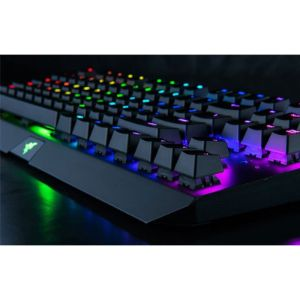keyboard: (1, 66, 300, 222)
